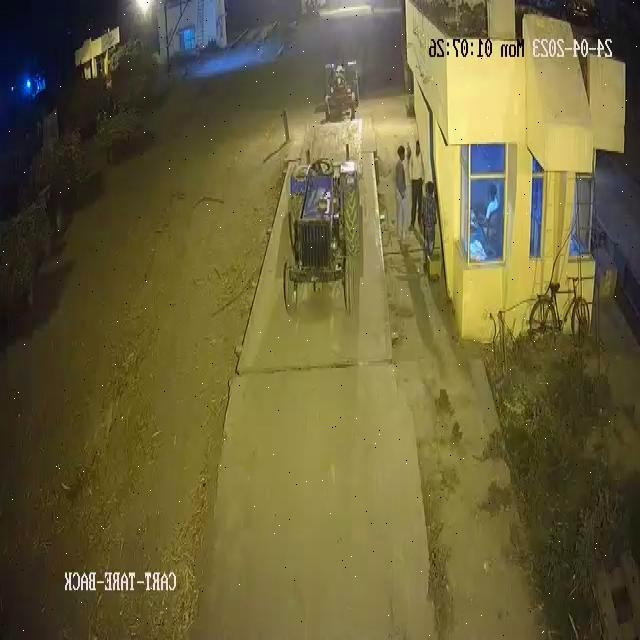Tratores - v5 YOLO V8L 2024-11-13: (282, 159, 366, 330)
